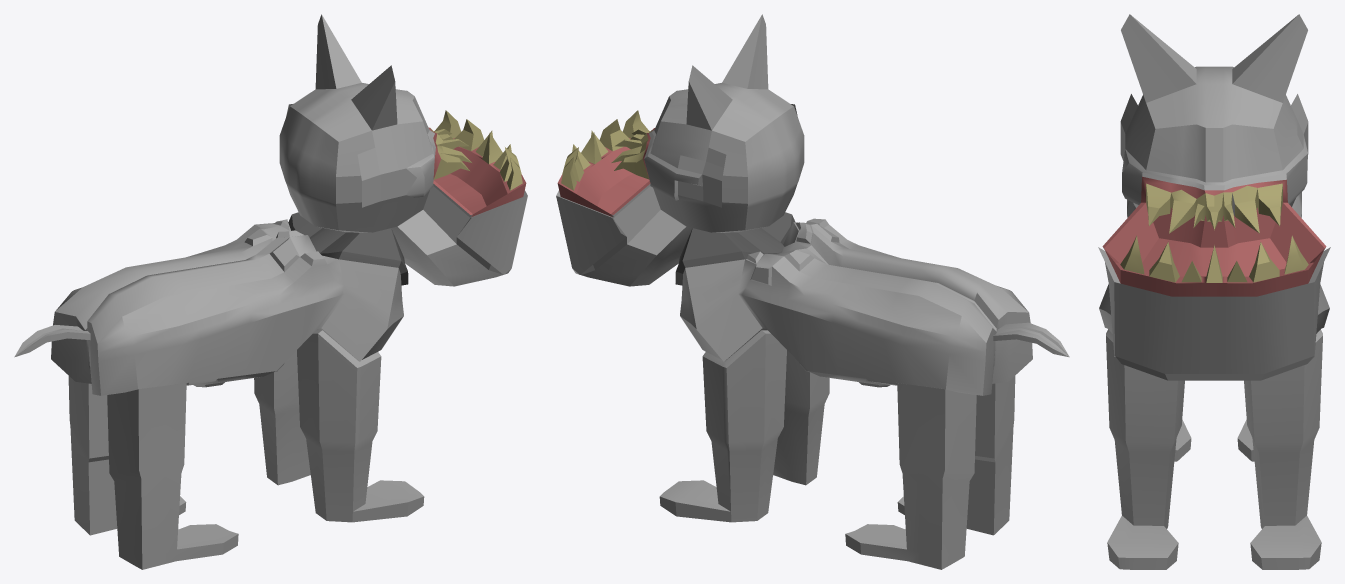
File: PSX_HingeHound.fbx
The picture shows the model from 3 angles, left to right: view 1: azimuth 30°, elevation 25°; view 2: azimuth 150°, elevation 25°; view 3: azimuth 270°, elevation 25°; orthographic projection. The views are drawn at different scales.
Parts seen in each view (by area): view 1: pCube1; view 2: pCube1; view 3: pCube1.
Boxes of the visible parts, bbox=[...] form: pCube1: bbox=[14, 14, 527, 569]; pCube1: bbox=[556, 14, 1069, 569]; pCube1: bbox=[1098, 14, 1330, 569].
Size of the model in its own units: 459 by 401 by 156.
